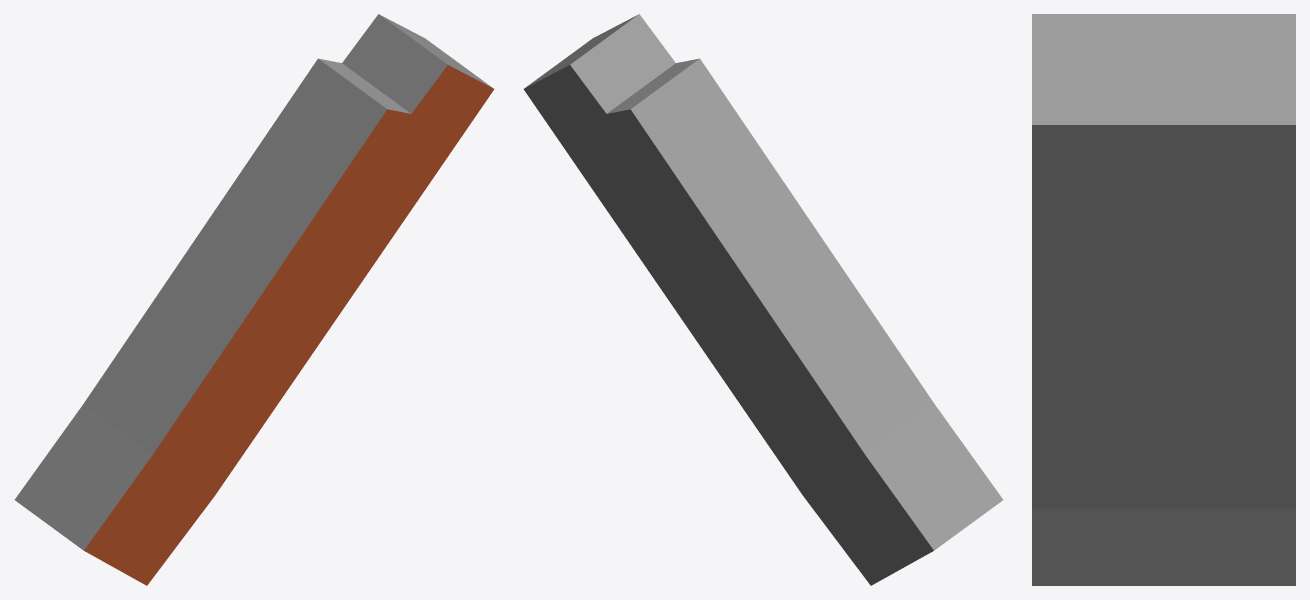
The model's file is construction_3436_assumed_A_Casa_h6m.obj.
3 views of the same model, side by side, from view 1: azimuth 30°, elevation 25°; view 2: azimuth 150°, elevation 25°; view 3: azimuth 270°, elevation 25° (orthographic). The views are drawn at different scales.
Parts seen in each view (by area): view 1: construction_3436_assumed_A_Casa; view 2: construction_3436_assumed_A_Casa; view 3: construction_3436_assumed_A_Casa.
Boxes of the visible parts, bbox=[...] form: construction_3436_assumed_A_Casa: bbox=[14, 14, 494, 585]; construction_3436_assumed_A_Casa: bbox=[523, 14, 1003, 585]; construction_3436_assumed_A_Casa: bbox=[1032, 14, 1295, 585].
Size of the model in its own units: 20.5 by 21.36 by 6.
